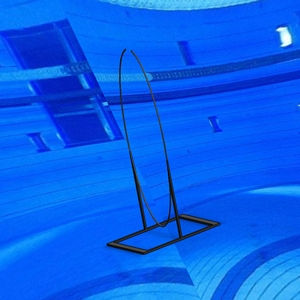circle: (106, 48, 222, 256)
